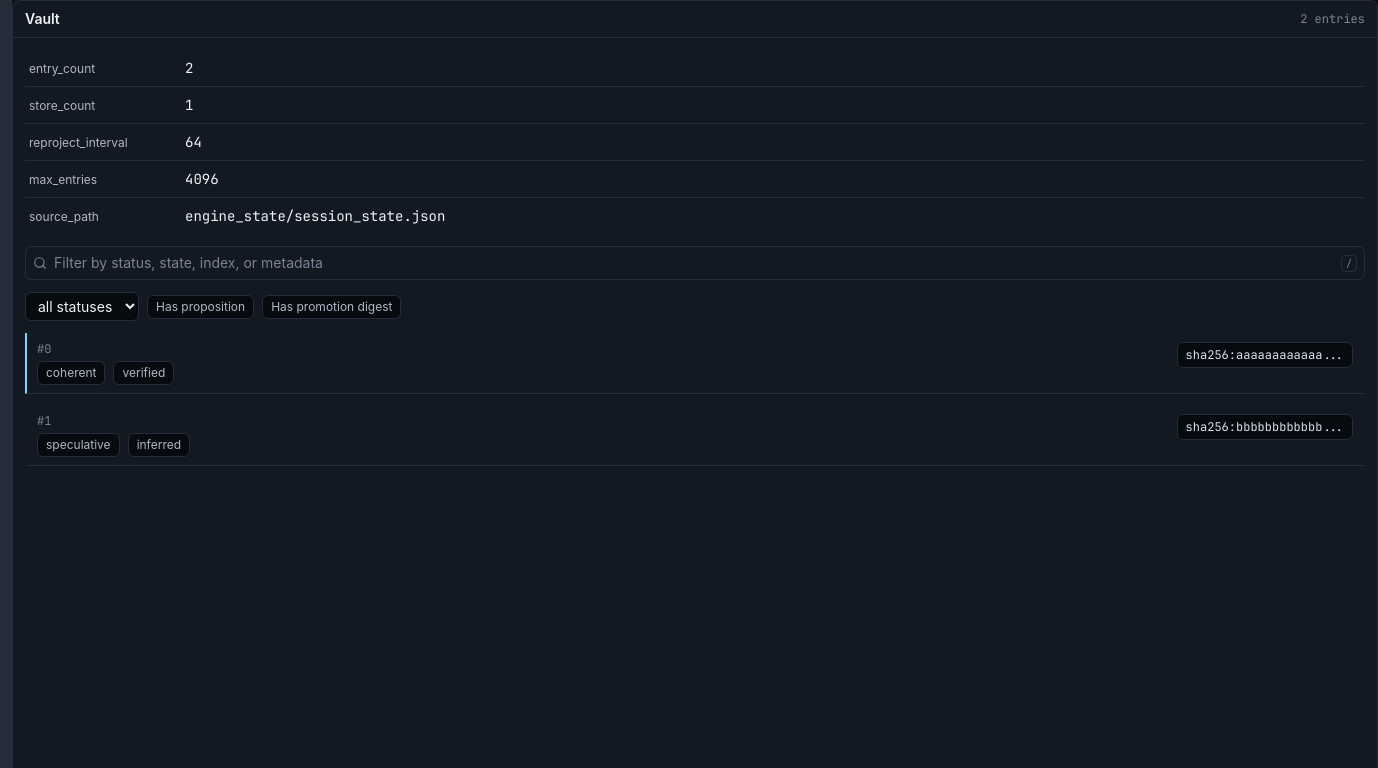
VaultRoute › selecting an entry publishes the vault_entry subject
Click the text "inferred": [159, 445] box [128, 433, 190, 457]
(page scrolled)
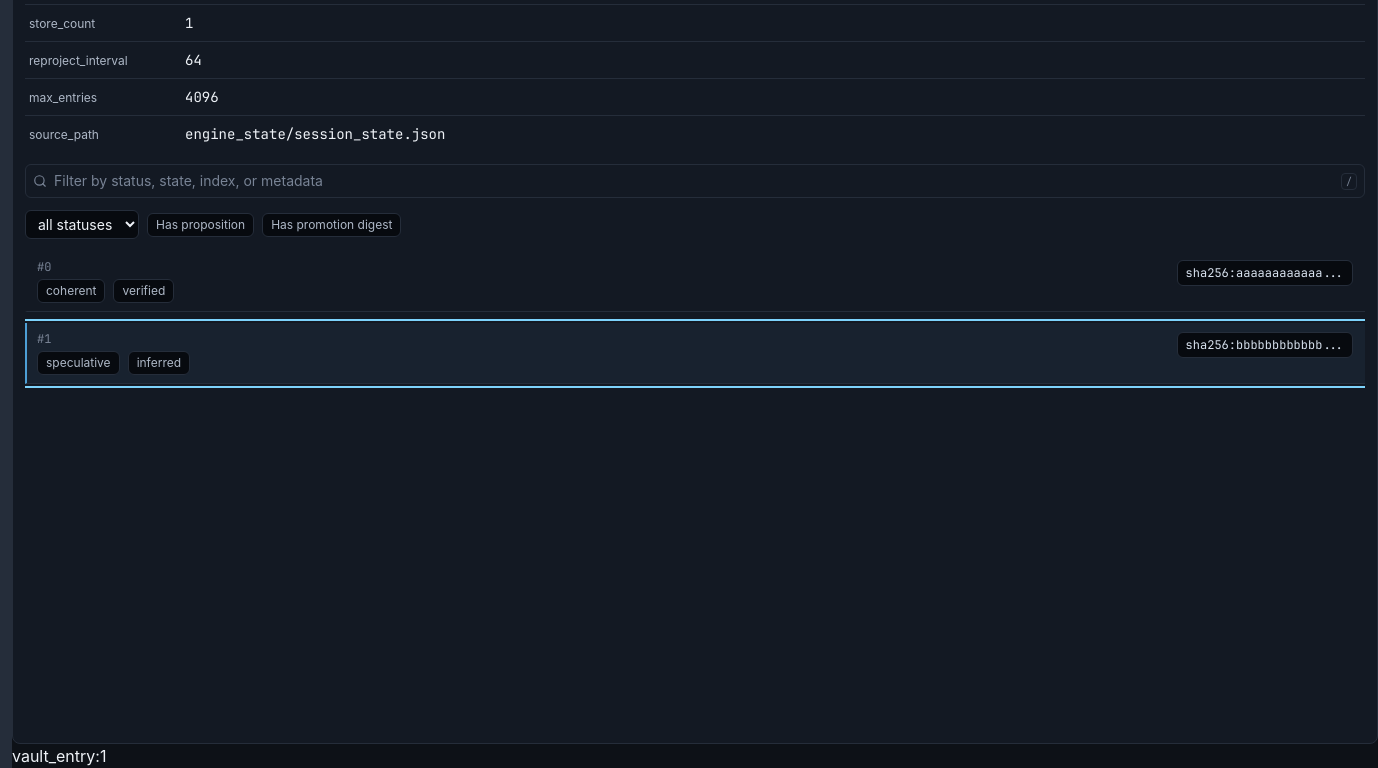
Now the text with test id "subject" reads "vault_entry:1", box [12, 746, 106, 766]
